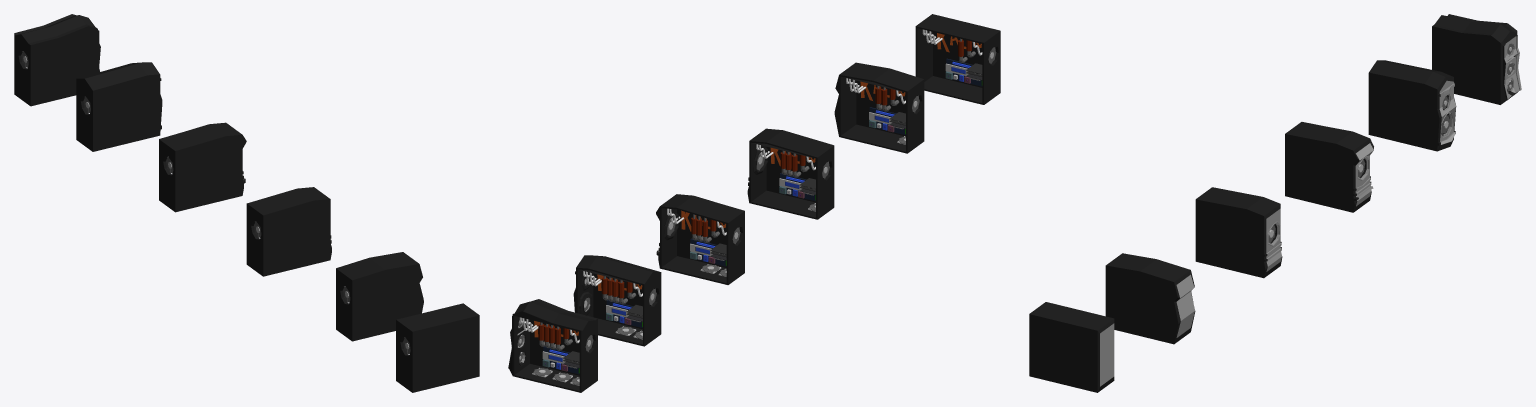
The picture shows the model from 3 angles, left to right: view 1: azimuth 30°, elevation 25°; view 2: azimuth 150°, elevation 25°; view 3: azimuth 330°, elevation 25°; orthographic projection.
Visible parts, largest first — view 1: Cube.019, Cube.006, Cube.011, Cube.001, Cube.014, Cube.026; view 2: Cube.014, Cube.001, Cube.006, Cube.011, Cube.026, Cube.019, Cylinder.014, Cylinder.017, Cube.003, Cube.028, Cube.016, Cube.008 (+5 smaller); view 3: Cube.014, Cube.019, Cube.006, Cube.011, Cube.001, Cube.026.
Part boxes in pixels (x1=…): Cube.019: x1=76, y1=62, x2=162, y2=151; Cube.006: x1=246, y1=187, x2=331, y2=276; Cube.011: x1=159, y1=122, x2=246, y2=212; Cube.001: x1=396, y1=303, x2=479, y2=392; Cube.014: x1=336, y1=252, x2=423, y2=341; Cube.026: x1=14, y1=14, x2=100, y2=106; Cube.014: x1=834, y1=62, x2=924, y2=153; Cube.001: x1=915, y1=14, x2=1000, y2=104; Cube.006: x1=747, y1=128, x2=834, y2=219; Cube.011: x1=656, y1=194, x2=744, y2=284; Cube.026: x1=508, y1=299, x2=597, y2=392; Cube.019: x1=573, y1=255, x2=661, y2=346; Cylinder.014: x1=601, y1=276, x2=636, y2=304; Cylinder.017: x1=538, y1=322, x2=572, y2=350; Cube.003: x1=945, y1=58, x2=982, y2=86; Cube.028: x1=542, y1=346, x2=579, y2=374; Cube.016: x1=869, y1=107, x2=905, y2=135; Cube.008: x1=779, y1=173, x2=815, y2=201; Cube.014: x1=1105, y1=253, x2=1195, y2=344; Cube.019: x1=1368, y1=60, x2=1456, y2=151; Cube.006: x1=1195, y1=187, x2=1282, y2=278; Cube.011: x1=1285, y1=122, x2=1373, y2=212; Cube.001: x1=1029, y1=302, x2=1114, y2=392; Cube.026: x1=1432, y1=14, x2=1521, y2=104.
Bounding box in the file's own units: 583 × 485 × 5053.
